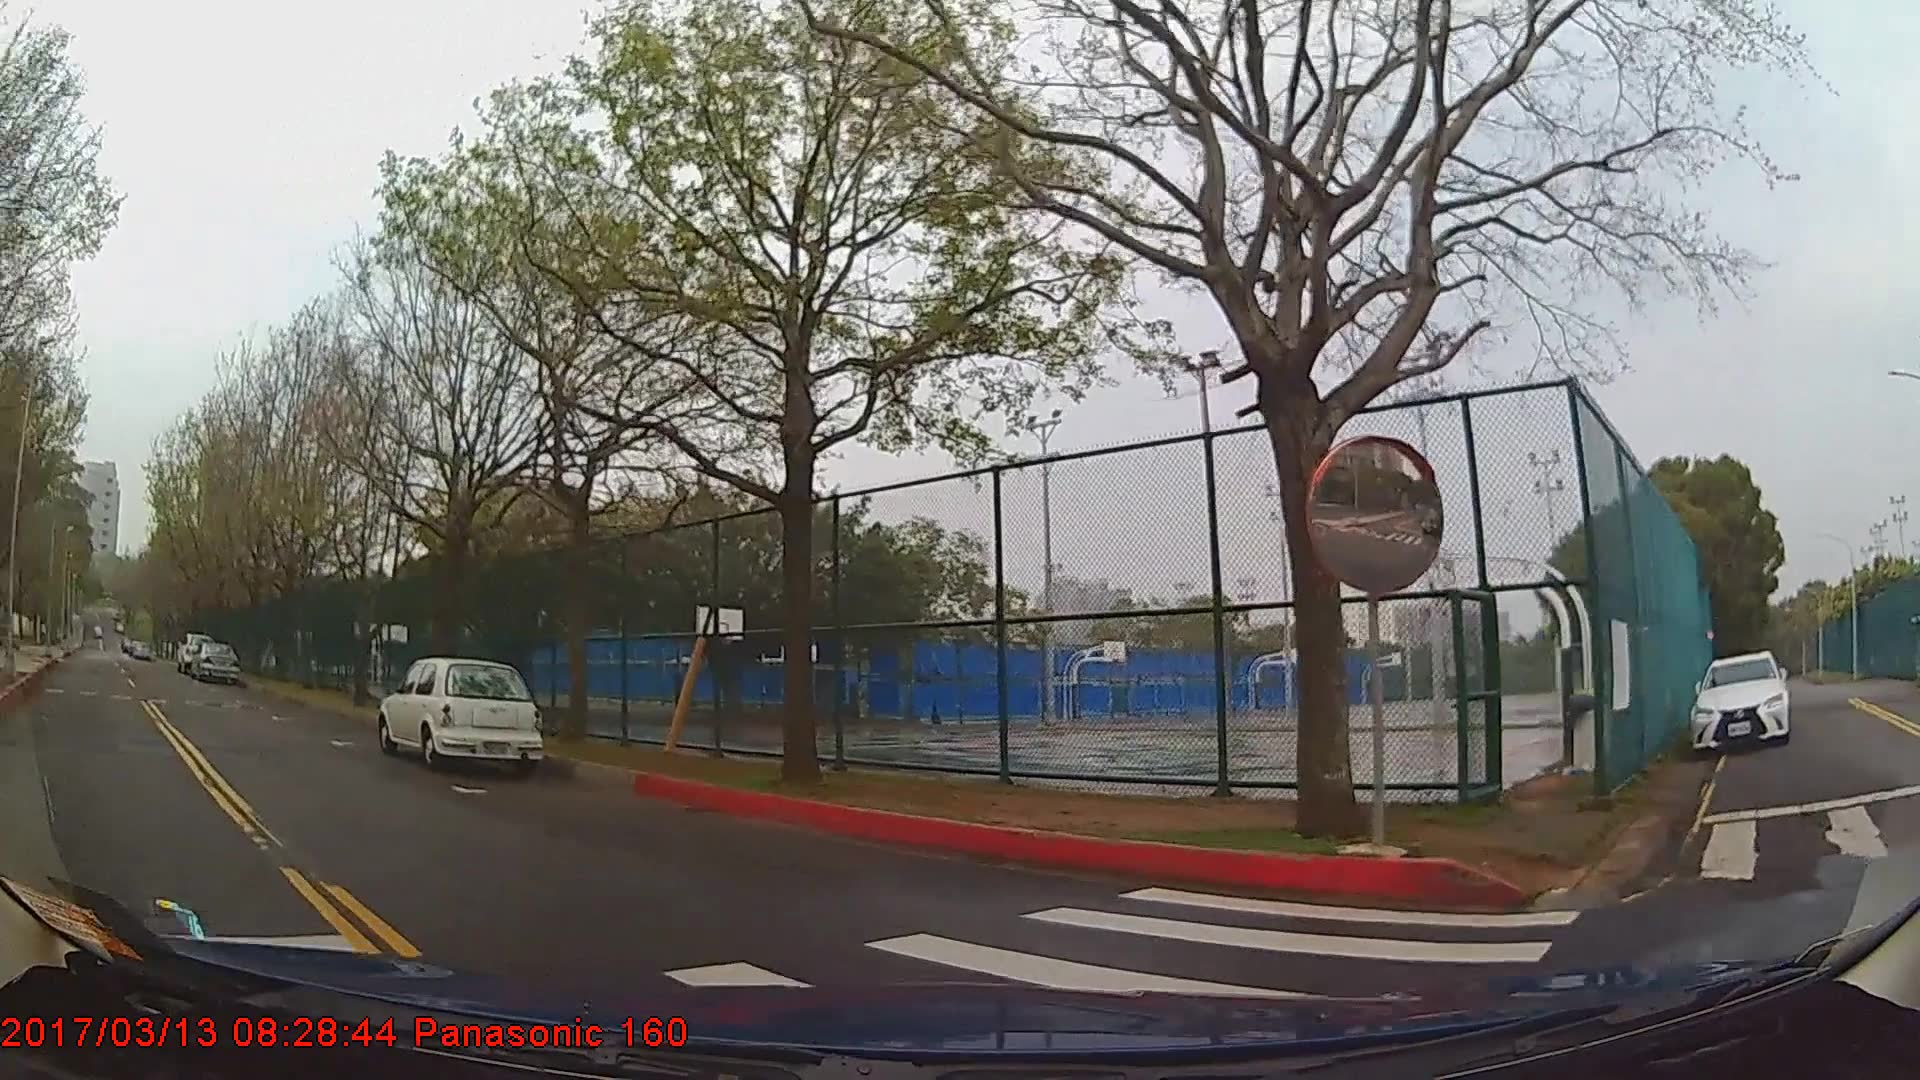vehicle: (378, 657, 545, 767), (1687, 651, 1787, 753), (193, 638, 239, 682)
